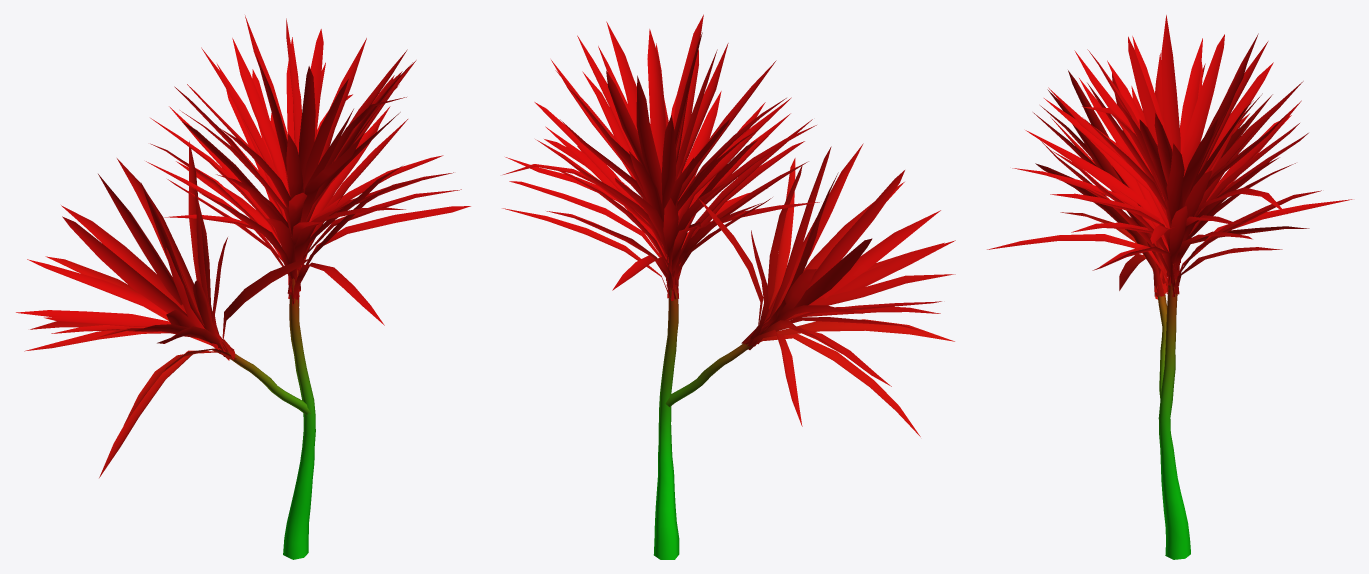
Rendered from SM_Palm03_LOD2.fbx.
The picture shows the model from 3 angles, left to right: view 1: azimuth 30°, elevation 25°; view 2: azimuth 150°, elevation 25°; view 3: azimuth 270°, elevation 25°; orthographic projection.
Parts seen in each view (by area): view 1: _4n99_Var3_LOD4; view 2: _4n99_Var3_LOD4; view 3: _4n99_Var3_LOD4.
Part boxes in pixels (x1=…): _4n99_Var3_LOD4: x1=16, y1=15, x2=470, y2=559; _4n99_Var3_LOD4: x1=502, y1=14, x2=955, y2=559; _4n99_Var3_LOD4: x1=987, y1=15, x2=1352, y2=559.
Size of the model in its own units: 132 by 160 by 103.
